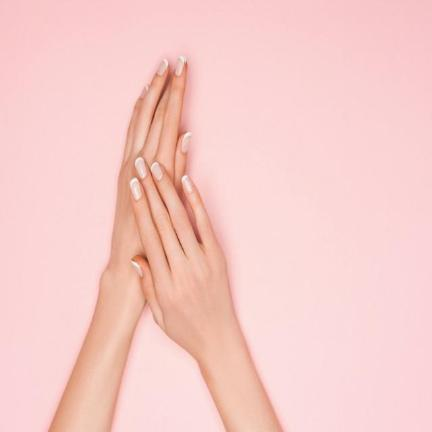Nail: (129, 178, 141, 201), (135, 157, 147, 179), (151, 162, 164, 181), (181, 132, 192, 153), (182, 175, 194, 194), (157, 59, 169, 75), (131, 261, 143, 277), (175, 55, 184, 76), (140, 85, 149, 98)
